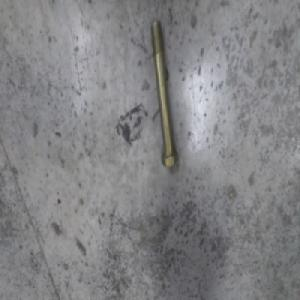Bolt: (149, 21, 178, 167)
